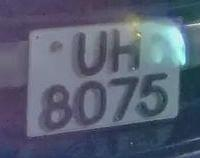0: (72, 75, 110, 130)
5: (137, 70, 171, 120)
7: (108, 72, 142, 125)
8: (38, 77, 77, 136)
H: (106, 23, 144, 77)
U: (66, 24, 116, 81)
